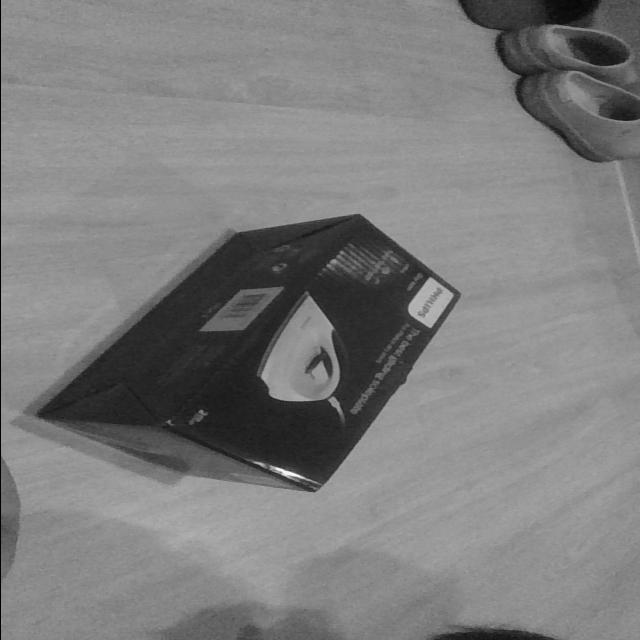IRON: (28, 212, 464, 494)
